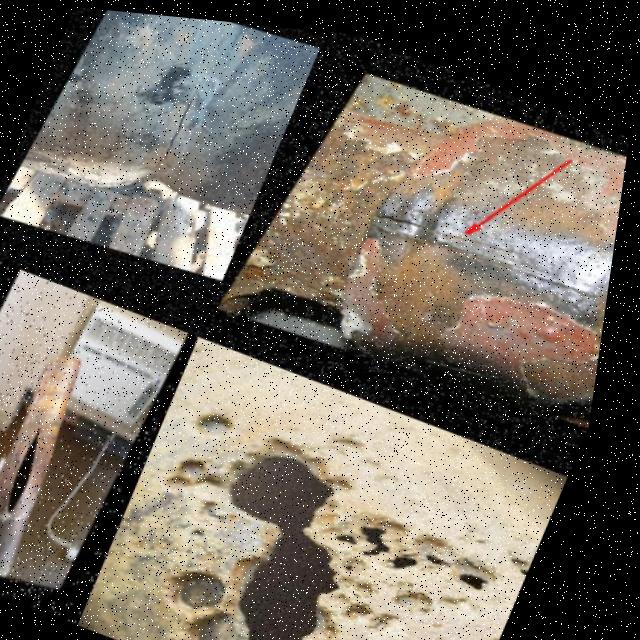crack: (365, 188, 555, 270), (147, 80, 197, 172)
hole: (194, 498, 373, 640), (198, 412, 365, 546), (153, 542, 250, 623), (336, 558, 435, 633), (154, 435, 215, 493), (179, 383, 243, 438), (497, 525, 553, 579), (350, 501, 402, 558), (446, 547, 500, 590), (466, 604, 522, 640), (381, 535, 426, 570), (418, 529, 462, 562), (329, 511, 362, 540), (427, 624, 458, 640)
rupture: (6, 419, 69, 528)
